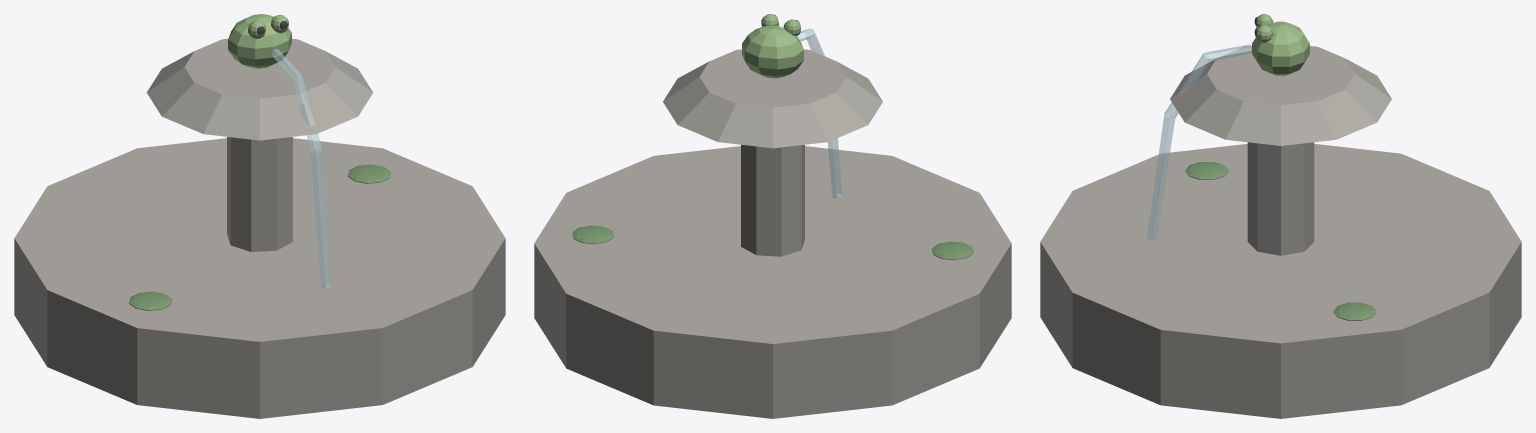
The model's file is StoneFountain.fbx.
3 renders of one model, left to right at view 1: azimuth 30°, elevation 25°; view 2: azimuth 150°, elevation 25°; view 3: azimuth 270°, elevation 25°, orthographic. The views are drawn at different scales.
Parts seen in each view (by area): view 1: Prop_StoneFountain; view 2: Prop_StoneFountain; view 3: Prop_StoneFountain.
Part boxes in pixels (box(x1,y1,x2,y2)): Prop_StoneFountain: box(14, 14, 505, 418); Prop_StoneFountain: box(534, 14, 1011, 418); Prop_StoneFountain: box(1040, 14, 1521, 418).
Size of the model in its own units: 2.6 by 1.77 by 2.6.
